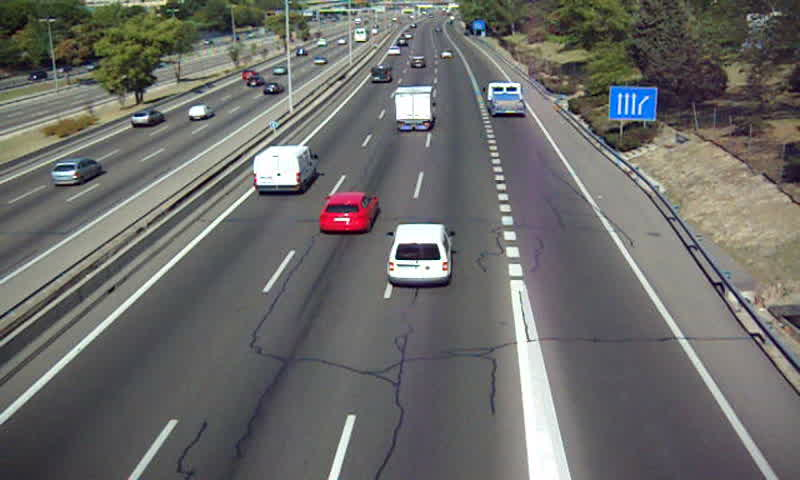car: (388, 223, 453, 284), (317, 193, 380, 233), (409, 55, 427, 70)
small-truck: (394, 85, 434, 129), (486, 81, 525, 117)
van: (253, 146, 317, 193), (368, 65, 392, 86)
